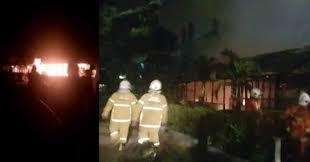fire: (22, 53, 91, 77)
